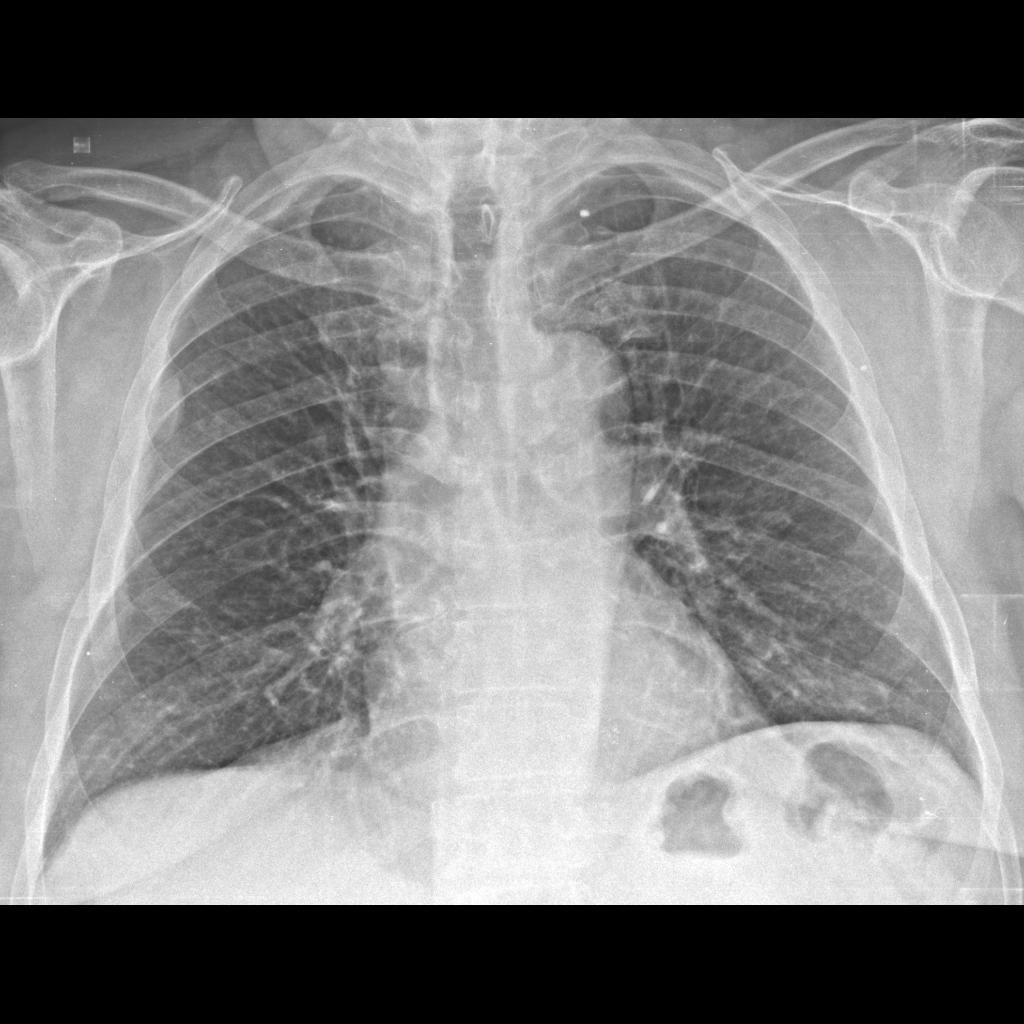Nodule: (149, 374, 189, 453)
